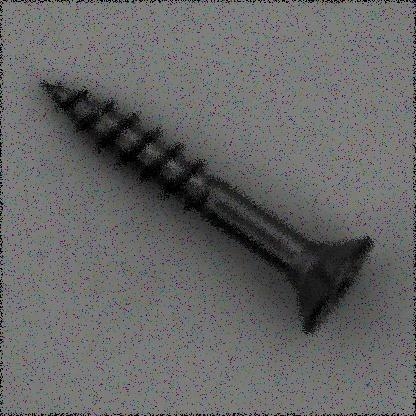metal: (38, 77, 374, 334)
